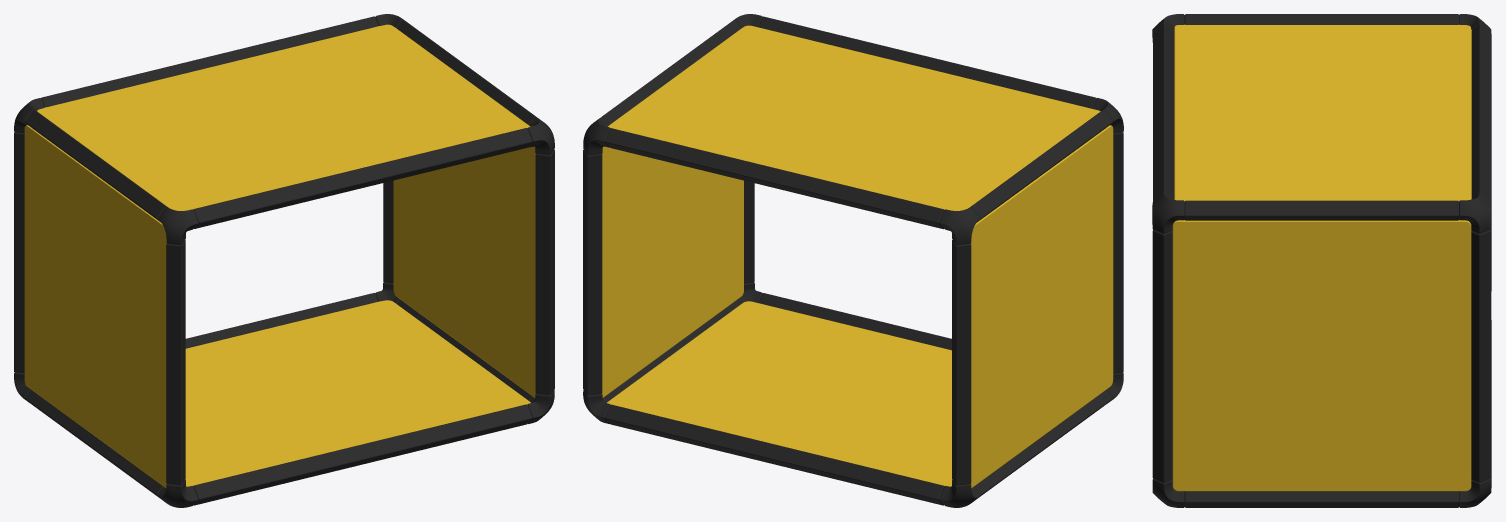
3 renders of one model, left to right at view 1: azimuth 30°, elevation 25°; view 2: azimuth 150°, elevation 25°; view 3: azimuth 270°, elevation 25°, orthographic. The views are drawn at different scales.
Parts seen in each view (by area): view 1: 479x329x329; view 2: 479x329x329; view 3: 479x329x329.
Boxes of the visible parts, left/top/right/bottom form: 479x329x329: left=14, top=14, right=554, bottom=507; 479x329x329: left=583, top=14, right=1123, bottom=507; 479x329x329: left=1152, top=14, right=1491, bottom=507.
Size of the model in its own units: 0.5567 by 0.4066 by 0.4063.
